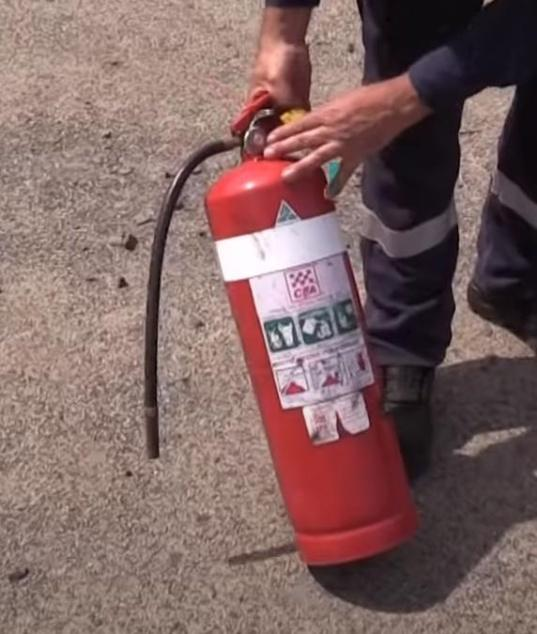APAR: (204, 91, 420, 570)
